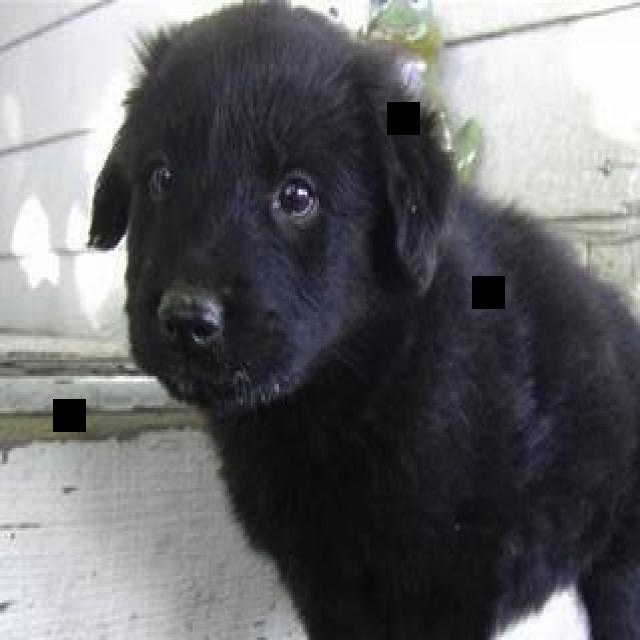puppy-dog: (93, 3, 640, 638)
